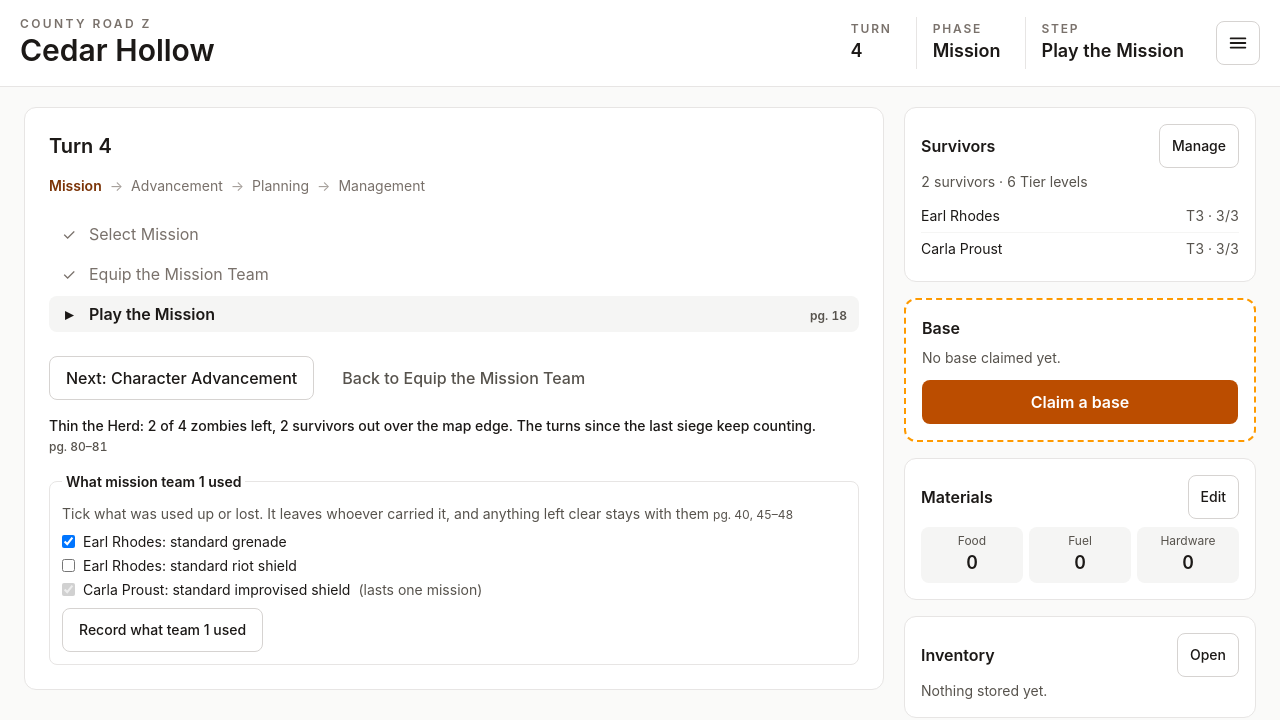
What a mission used (pp. 40, 45–48; Z5-5) › takes a thrown grenade and leaves the riot shield (pg. 51)
Click the button "Record what team 1 used": click(163, 630) [62, 608, 263, 652]
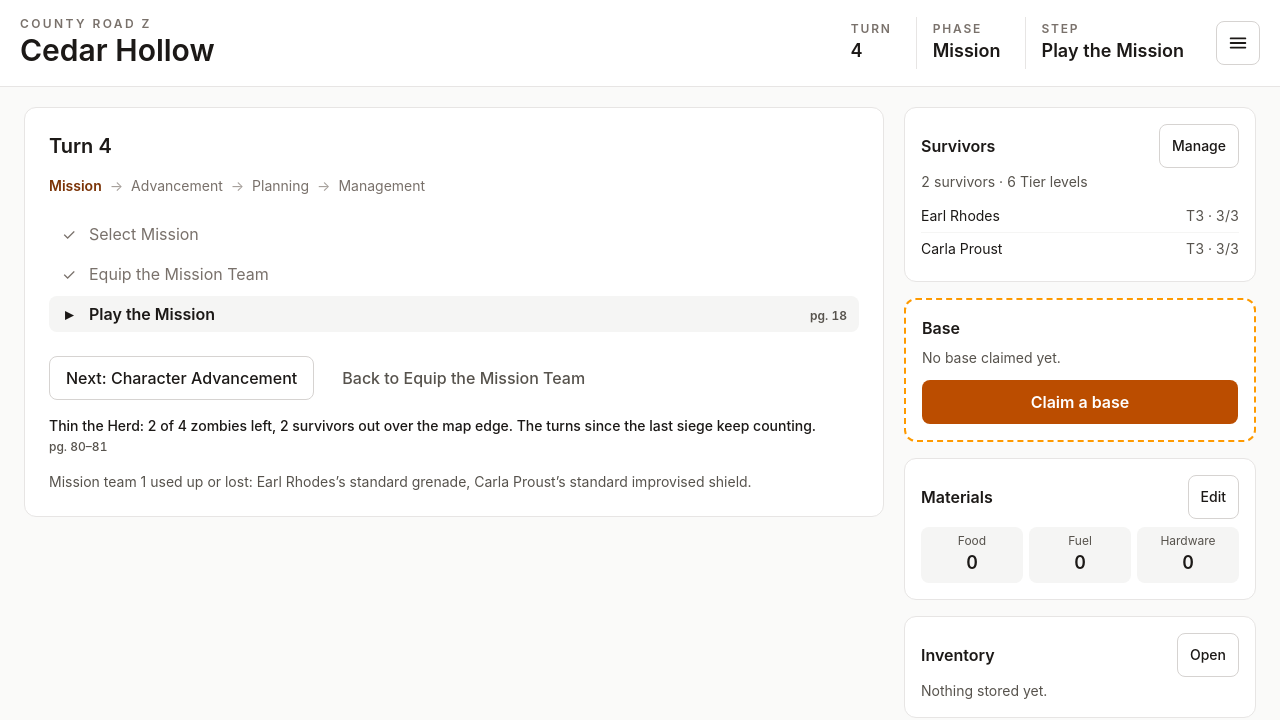
Result: the text "Mission team 1 used up or lost: Earl Rhodes’s standard grenade, Carla Proust’s standard improvised shield." is shown at [49, 472, 752, 490]
Result: the text "What mission team 1 used" is gone
